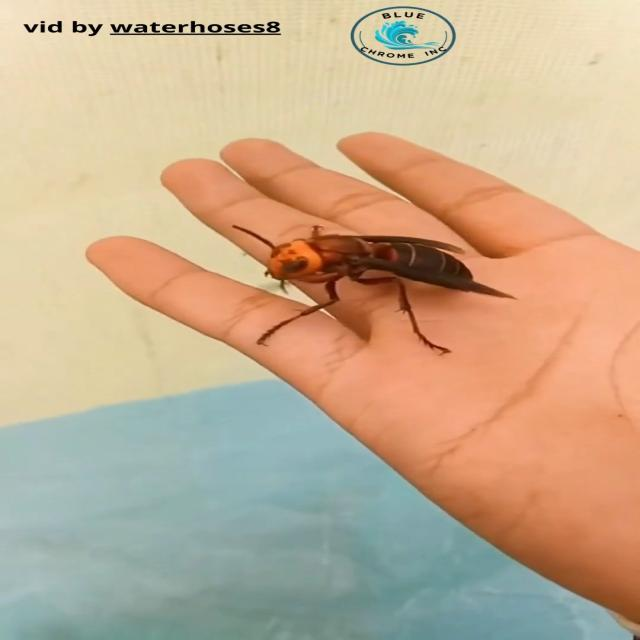Hornets: (228, 222, 520, 356)
